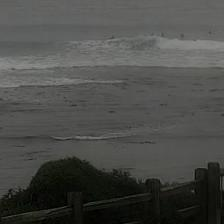surfer: (180, 33, 185, 38), (110, 35, 115, 39), (160, 33, 164, 38), (150, 32, 154, 36), (208, 31, 212, 34)
